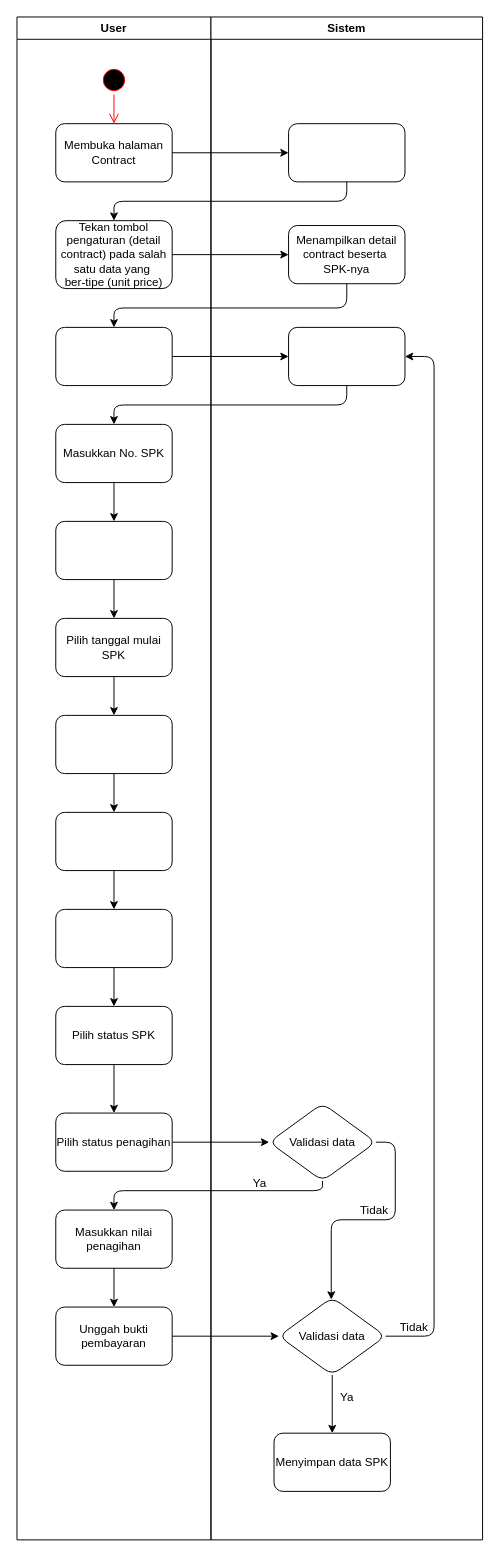
Image size: 500x1557. Some labels were removed from this diagram. The shapes that lost their labels are listed below. From the top down, each one's centre as x and y in pixels, then its label:
At pixel 346 152: "Menampilkan halaman Contract".
At pixel 113 356: "Memilih tombol tambah pada fitur SPK di halaman detail contract".
At pixel 346 356: "Menampilkan formulir tambah data SPK".
At pixel 113 550: "Masukkan Judul SPK".
At pixel 113 744: "Pilih tanggal berakhir SPK".
At pixel 113 841: "Masukkan Nilai SPK".
At pixel 113 938: "Unggah dokumen SPK".
